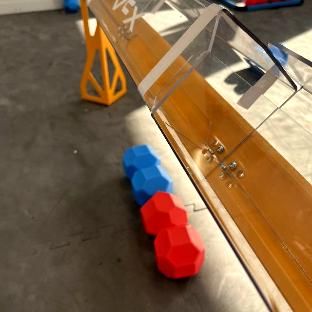V5_BLUE: (123, 145, 172, 203)
V5_RED: (142, 191, 205, 277)
